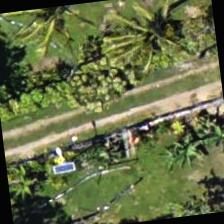Kelapa_Sawit: (96, 0, 197, 91), (0, 2, 96, 66)
